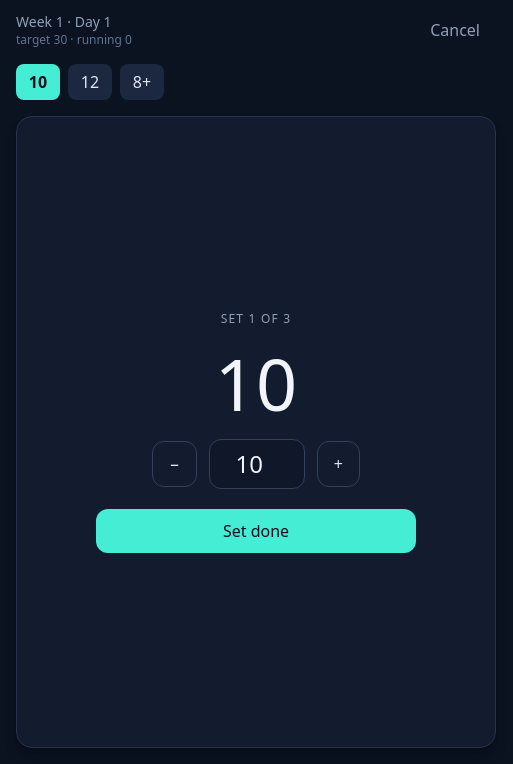
it: the tab dies mid-workout › resumes a rest that has already expired straight into the set
Step 1. Click the button "Set done" → (256, 531), box [96, 509, 416, 553]
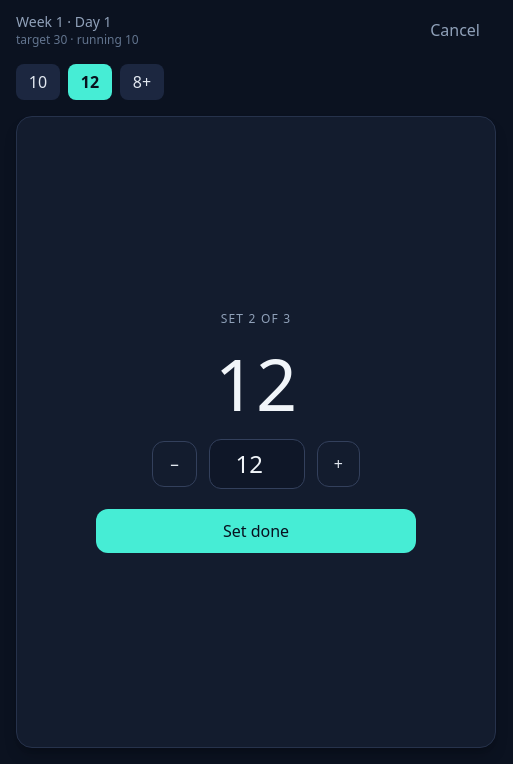
expect the text "Set 2 of 3" is shown: met, box [221, 311, 291, 327]
